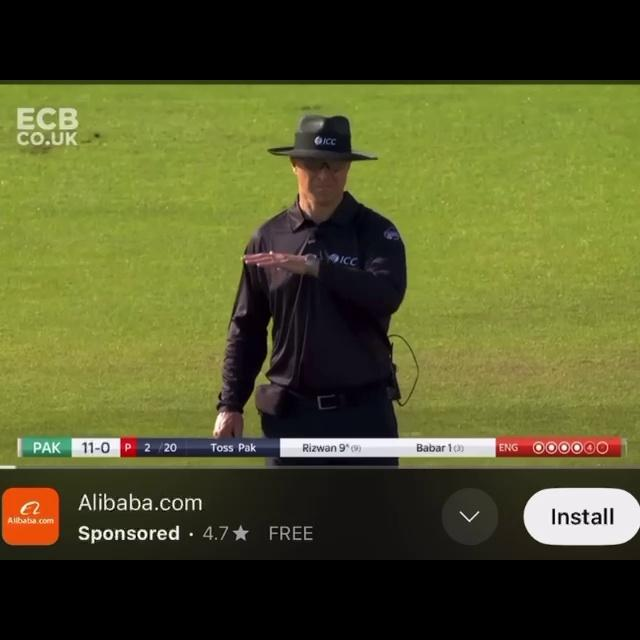umpire: (189, 100, 479, 434)
